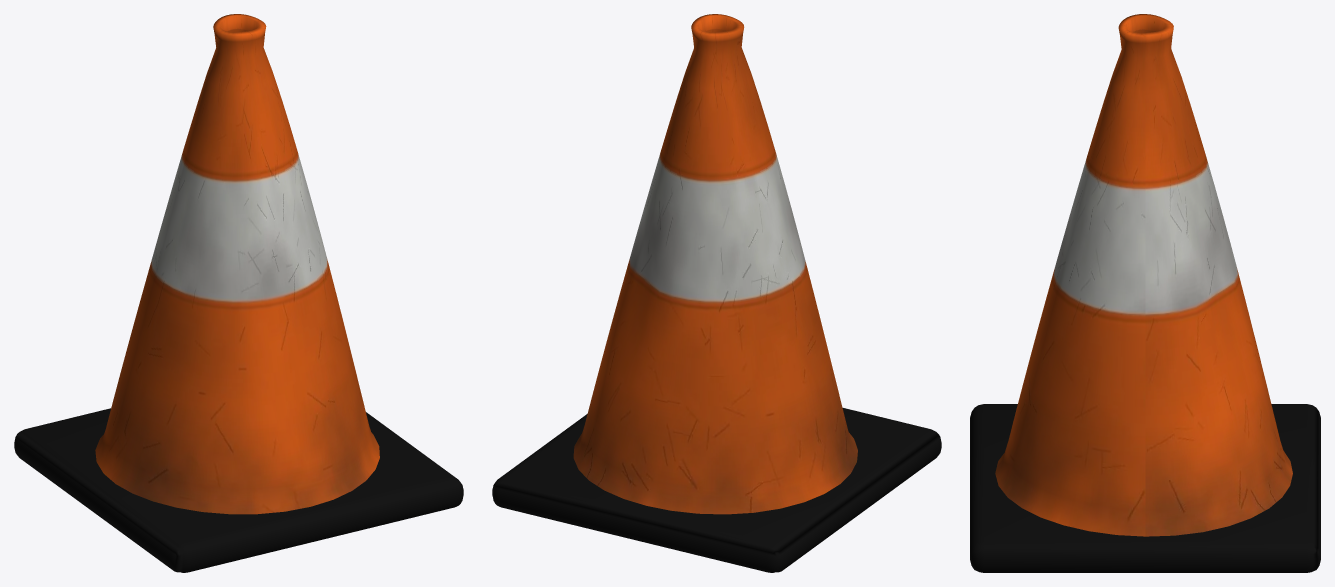
Rendered from mess-cone.glb.
The picture shows the model from 3 angles, left to right: view 1: azimuth 30°, elevation 25°; view 2: azimuth 150°, elevation 25°; view 3: azimuth 270°, elevation 25°; orthographic projection. The views are drawn at different scales.
Visible parts, largest first — view 1: mess-cone; view 2: mess-cone; view 3: mess-cone.
Part boxes in pixels (x1,y1,x2,y2): mess-cone: [14, 14, 463, 572]; mess-cone: [492, 14, 941, 572]; mess-cone: [970, 14, 1320, 572].
Bounding box in the file's own units: 0.3 × 0.4485 × 0.3.
Materials: 2 (1 with a texture image).
